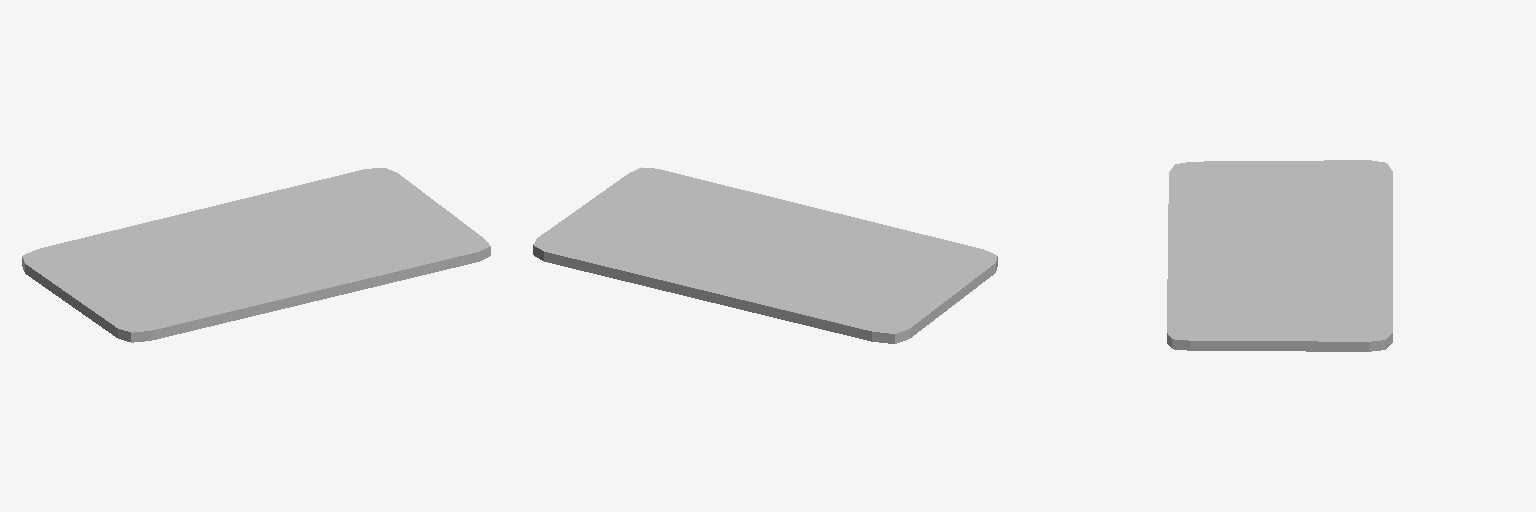
File: cuttingBoard.obj
3 views of the same model, side by side, from view 1: azimuth 30°, elevation 25°; view 2: azimuth 150°, elevation 25°; view 3: azimuth 270°, elevation 25° (orthographic).
Visible parts, largest first — view 1: cuttingBoard_GEO; view 2: cuttingBoard_GEO; view 3: cuttingBoard_GEO.
Boxes of the visible parts, <box> form: cuttingBoard_GEO: <box>22,168,490,342</box>; cuttingBoard_GEO: <box>533,167,997,343</box>; cuttingBoard_GEO: <box>1167,160,1392,351</box>.
Size of the model in its own units: 1.9 by 0.0491 by 1.